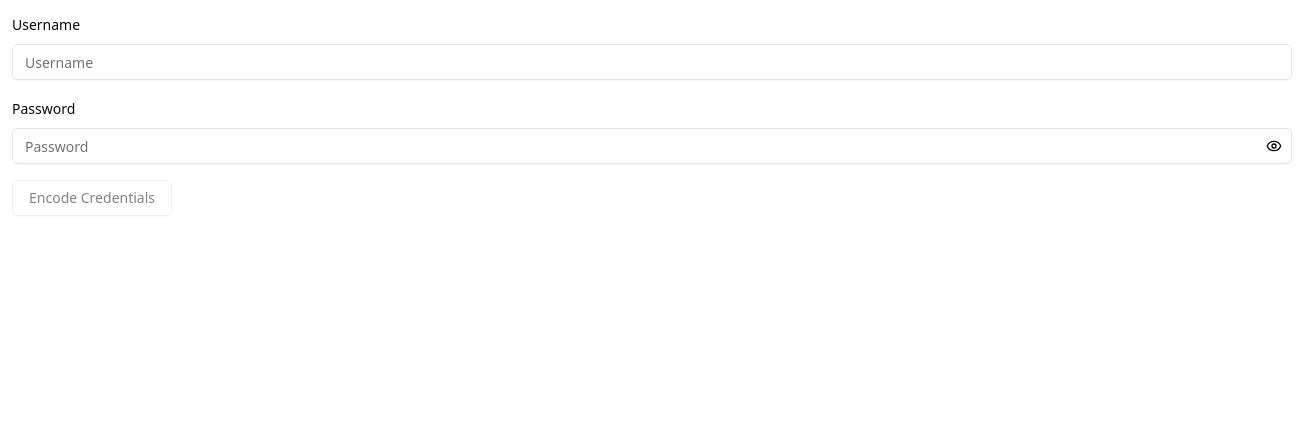
BasicAuth › should show Base64 encoded credentials preview
Type "admin" into the field with placeholder "Username" at [652, 62], box [12, 44, 1292, 80]
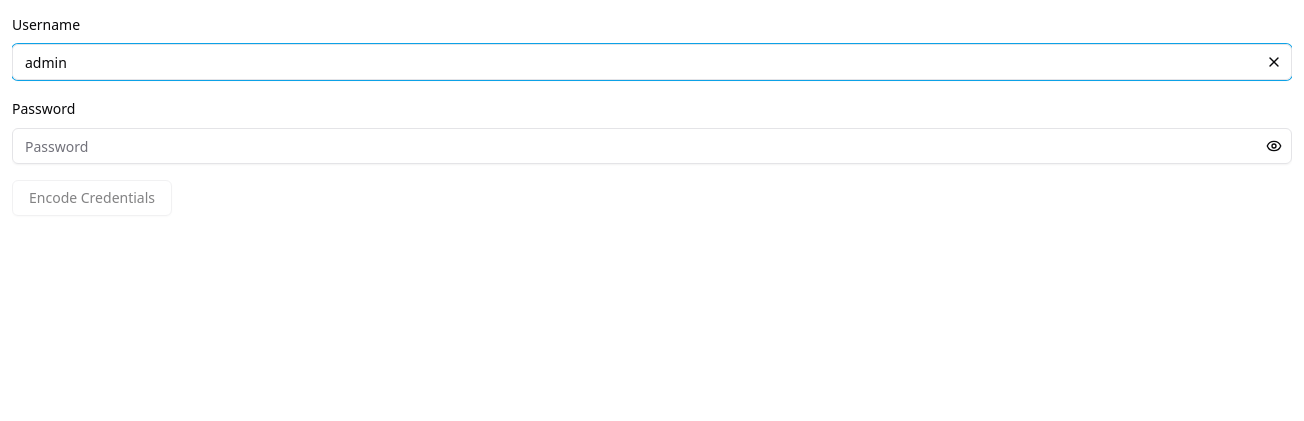
Type "secret" into the password field with placeholder "Password" at [652, 146], box [12, 128, 1292, 164]
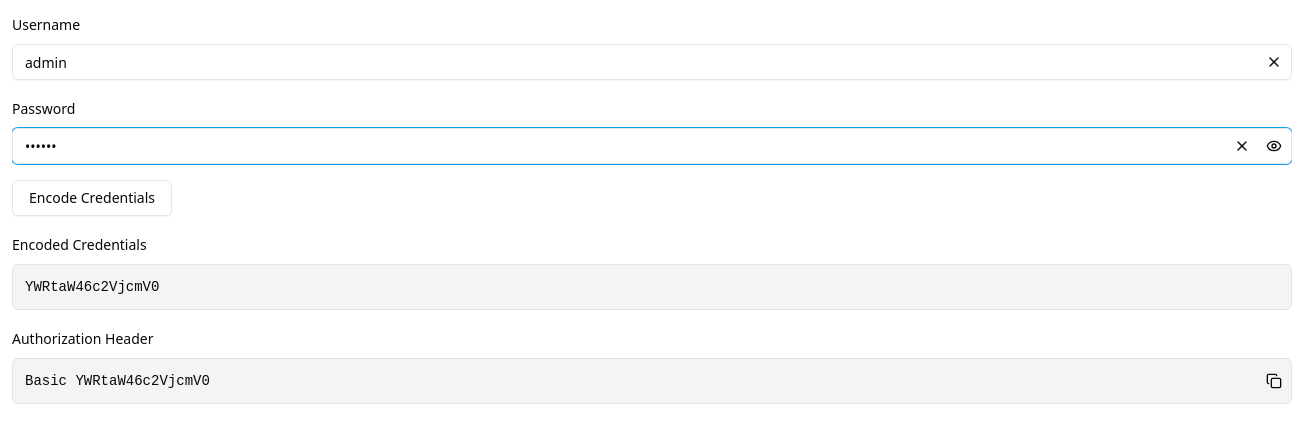
Now the text "Encoded Credentials" is shown, box [12, 235, 147, 254]
Now the text "YWRtaW46c2VjcmV0" is shown, box [12, 264, 1292, 310]
